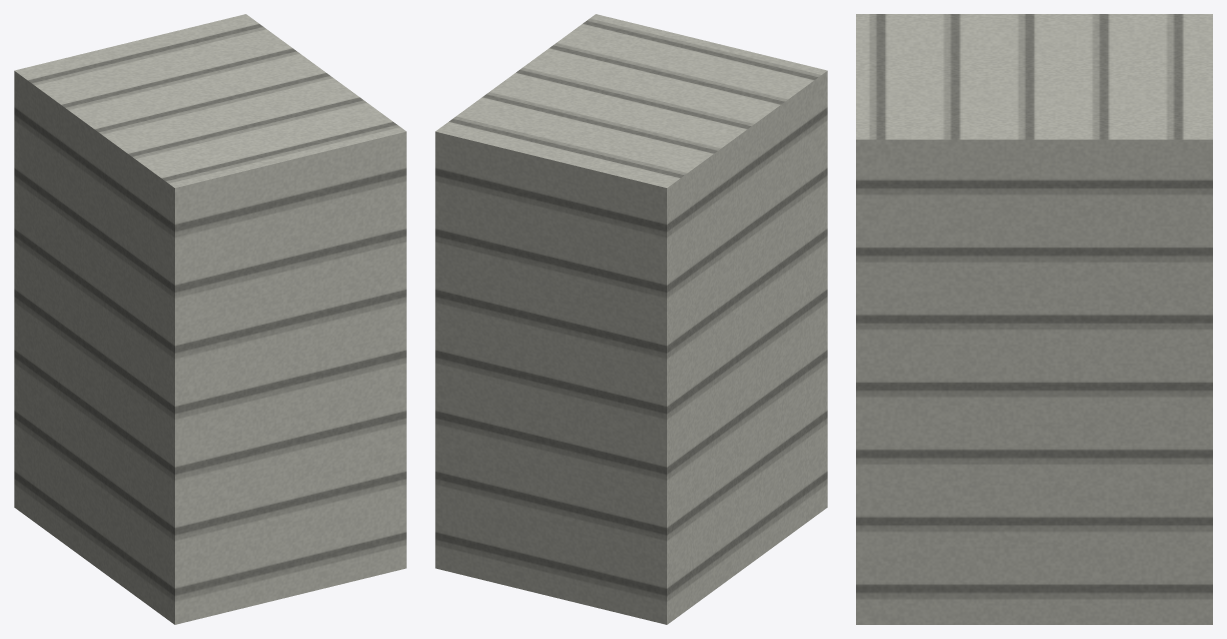
File: deep_fryer.glb
3 views of the same model, side by side, from view 1: azimuth 30°, elevation 25°; view 2: azimuth 150°, elevation 25°; view 3: azimuth 270°, elevation 25° (orthographic). The views are drawn at different scales.
Parts seen in each view (by area): view 1: deep_fryer-col; view 2: deep_fryer-col; view 3: deep_fryer-col.
Boxes of the visible parts, x1,y1,x2,y2 form: deep_fryer-col: (14, 14, 406, 624); deep_fryer-col: (435, 14, 827, 624); deep_fryer-col: (856, 14, 1212, 624).
Size of the model in its own units: 0.5 by 0.9 by 0.6.
1 material, 1 textured.
